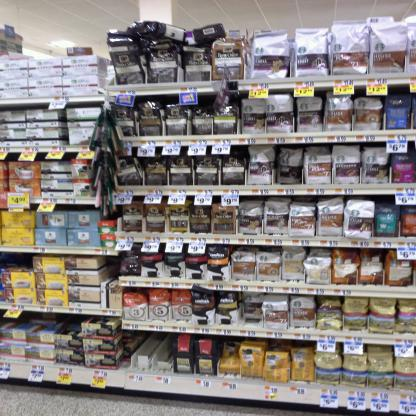Void: (130, 330, 168, 372), (24, 312, 73, 332), (3, 257, 32, 266)
